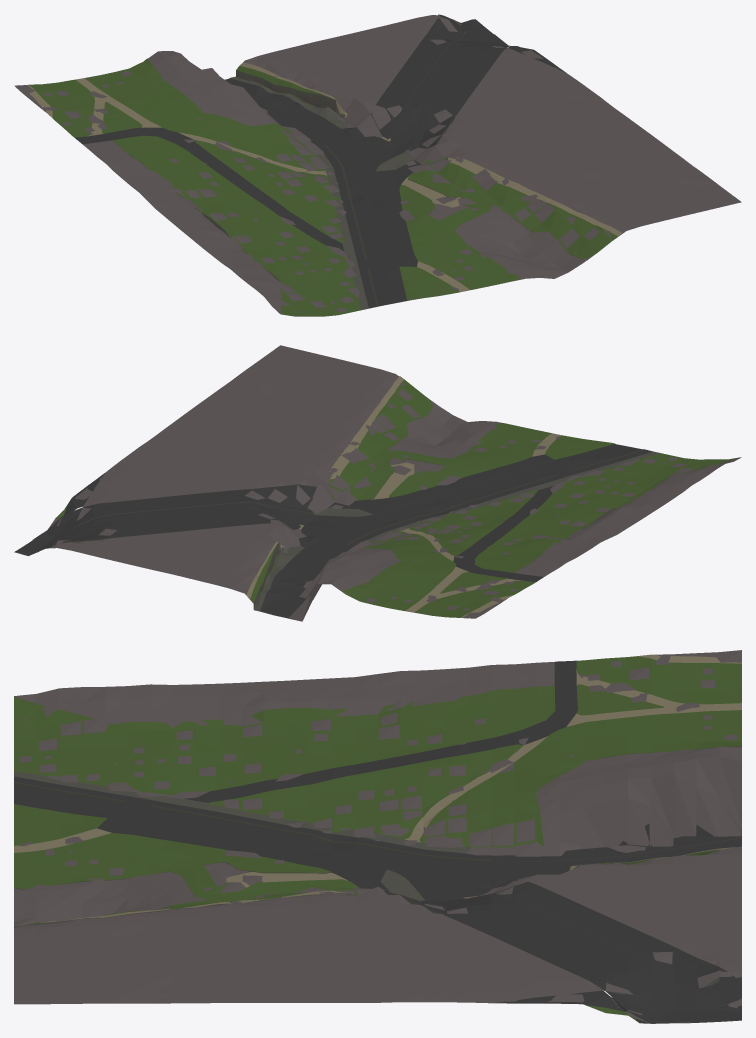
3 views of the same model, one above another, from view 1: azimuth 30°, elevation 25°; view 2: azimuth 150°, elevation 25°; view 3: azimuth 270°, elevation 25° (orthographic). The views are drawn at different scales.
Parts seen in each view (by area): view 1: c_m08_m16; view 2: c_m08_m16; view 3: c_m08_m16.
Boxes of the visible parts, x1,y1,x2,y2 form: c_m08_m16: (14, 14, 741, 316); c_m08_m16: (14, 345, 741, 621); c_m08_m16: (14, 650, 741, 1023).
Bounding box in the file's own units: 128 × 17.37 × 128.
